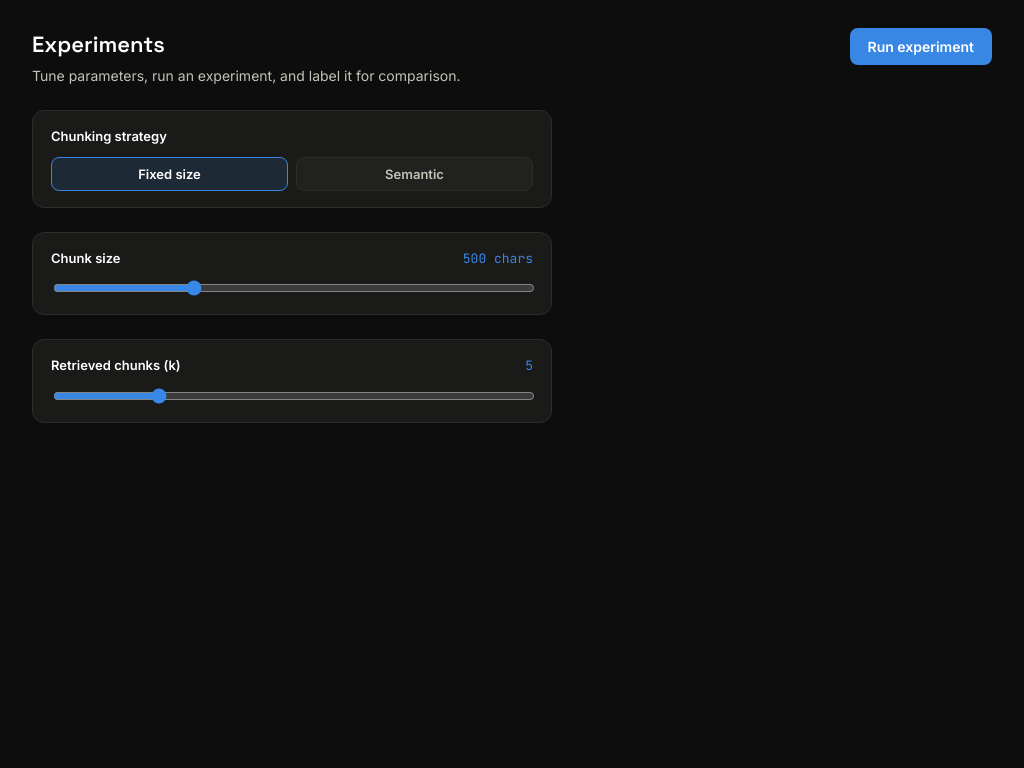
Test: ExperimentsView › runs an experiment end to end: apply config, run eval, show result
Expected: the text "500 chars" is shown, [463, 248, 533, 268]
Click the button "Run experiment".
click(921, 46)  # box [850, 28, 992, 65]
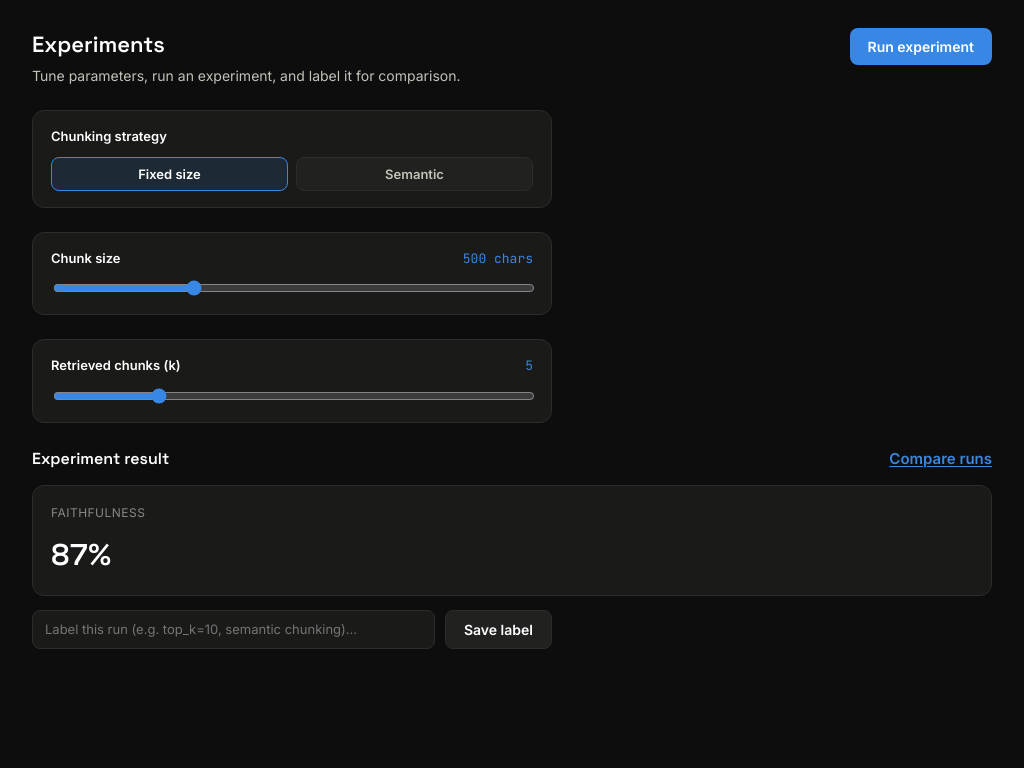
Result: the heading "Experiment result" is shown at [32, 446, 169, 470]
Result: the text "87%" is shown at [51, 534, 111, 574]
